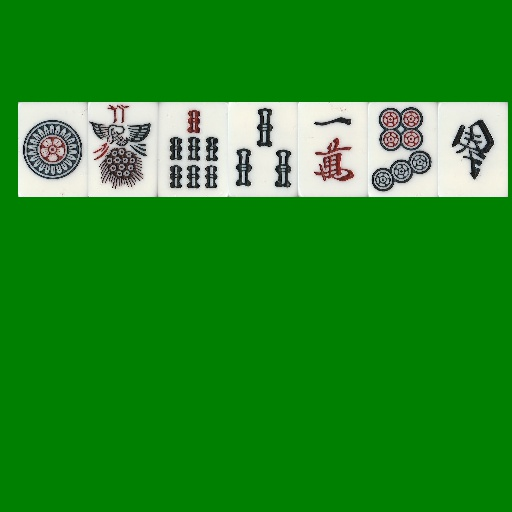1m: (298, 102, 368, 197)
1p: (18, 102, 88, 197)
1s: (88, 102, 158, 197)
3s: (228, 102, 298, 197)
7p: (368, 102, 438, 197)
7s: (158, 102, 228, 197)
south: (438, 102, 508, 197)
